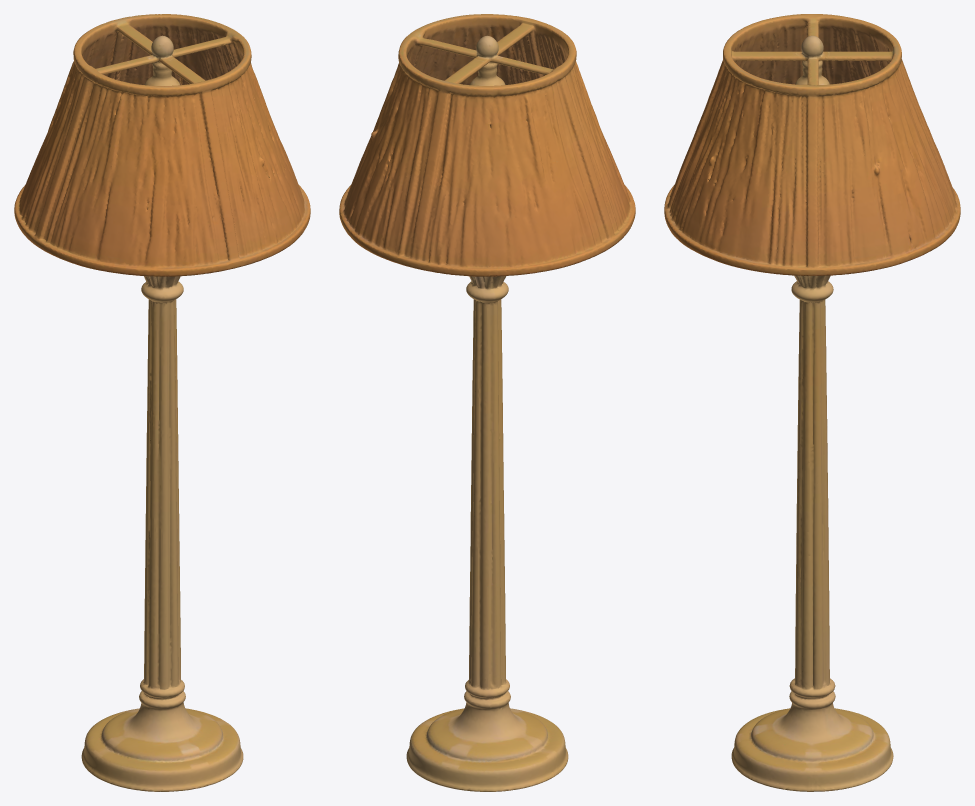
The model's file is art_deco_floor_lamp.glb.
3 views of the same model, side by side, from view 1: azimuth 30°, elevation 25°; view 2: azimuth 150°, elevation 25°; view 3: azimuth 270°, elevation 25° (orthographic).
Parts seen in each view (by area): view 1: tripo_node_0b34b762-2c7e-47b0-a6a2-0fd03c64cc7a; view 2: tripo_node_0b34b762-2c7e-47b0-a6a2-0fd03c64cc7a; view 3: tripo_node_0b34b762-2c7e-47b0-a6a2-0fd03c64cc7a.
Boxes of the visible parts, x1,y1,x2,y2 form: tripo_node_0b34b762-2c7e-47b0-a6a2-0fd03c64cc7a: [14, 14, 310, 791]; tripo_node_0b34b762-2c7e-47b0-a6a2-0fd03c64cc7a: [339, 14, 635, 791]; tripo_node_0b34b762-2c7e-47b0-a6a2-0fd03c64cc7a: [664, 14, 960, 791].
Bounding box in the file's own units: 0.3704 × 1 × 0.3717.
Materials: 1 (1 with a texture image).
